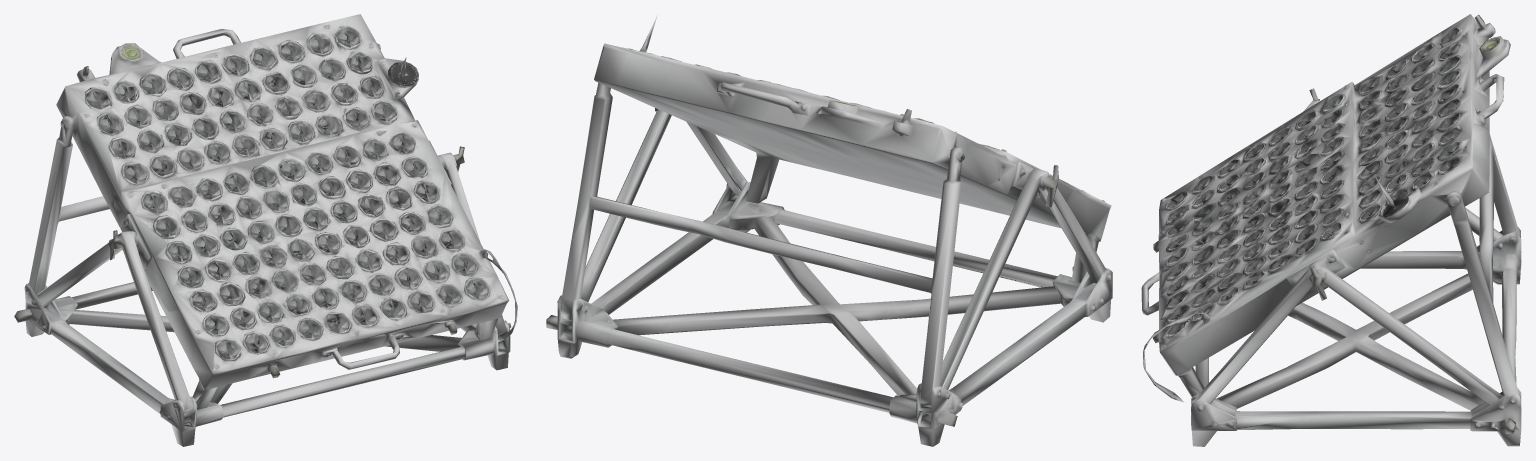
The model's file is laser_reflector.glb.
3 renders of one model, left to right at view 1: azimuth 30°, elevation 25°; view 2: azimuth 150°, elevation 25°; view 3: azimuth 270°, elevation 25°, orthographic. The views are drawn at different scales.
Parts seen in each view (by area): view 1: tripo_node_4b007362-91aa-4454-8738-24ed1d86d869; view 2: tripo_node_4b007362-91aa-4454-8738-24ed1d86d869; view 3: tripo_node_4b007362-91aa-4454-8738-24ed1d86d869.
Boxes of the visible parts, x1=… form: tripo_node_4b007362-91aa-4454-8738-24ed1d86d869: x1=14, y1=14, x2=517, y2=446; tripo_node_4b007362-91aa-4454-8738-24ed1d86d869: x1=546, y1=15, x2=1112, y2=446; tripo_node_4b007362-91aa-4454-8738-24ed1d86d869: x1=1141, y1=14, x2=1521, y2=446.
Bounding box in the file's own units: 0.65 × 0.4798 × 0.5747.
1 material, 1 textured.
